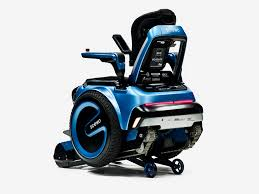wheelchair: (54, 13, 199, 172)
